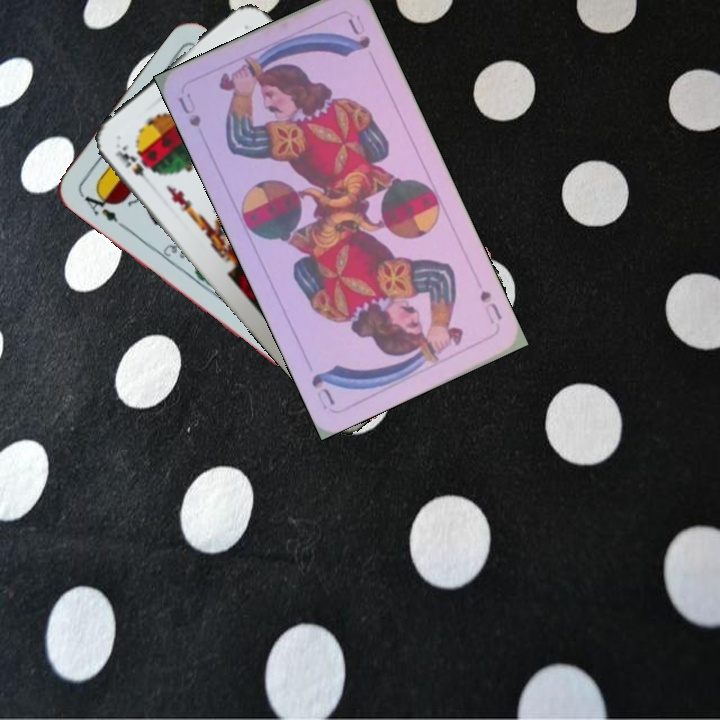EA: (76, 186, 121, 225)
SK: (111, 140, 154, 191)
SU: (174, 88, 204, 130), (475, 286, 505, 323)
